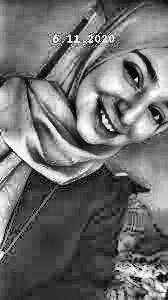happy: (54, 29, 168, 176)
